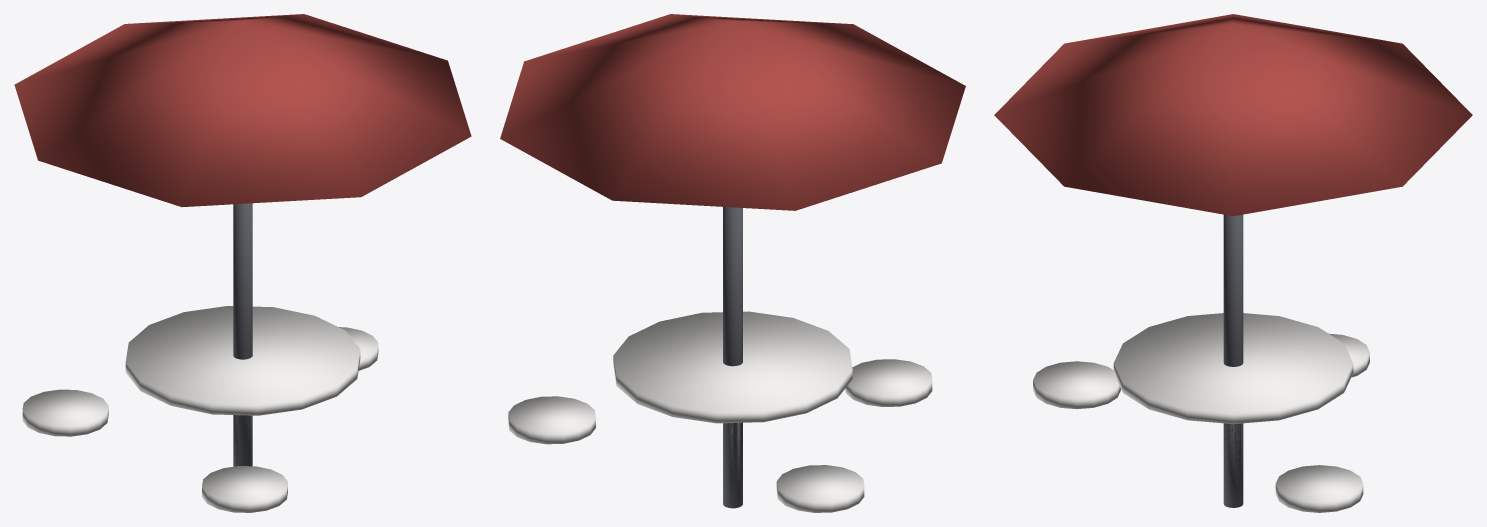
File: prop_parasol.glb
3 renders of one model, left to right at view 1: azimuth 30°, elevation 25°; view 2: azimuth 150°, elevation 25°; view 3: azimuth 270°, elevation 25°, orthographic.
Visible parts, largest first — view 1: parasol; view 2: parasol; view 3: parasol.
Part boxes in pixels (left/top/right/bottom): parasol: left=14, top=14, right=471, bottom=512; parasol: left=500, top=14, right=965, bottom=512; parasol: left=994, top=14, right=1472, bottom=512.
Bounding box in the file's own units: 2.4 × 2.65 × 2.4.
